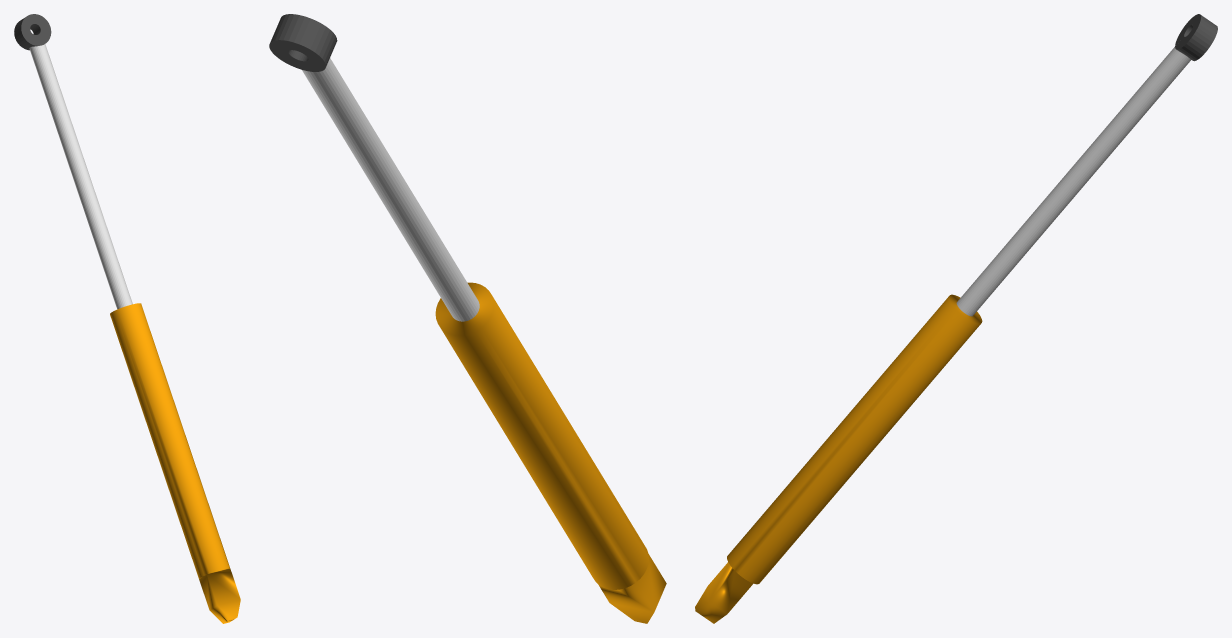
File: pistao_hidraulico.gltf
3 renders of one model, left to right at view 1: azimuth 30°, elevation 25°; view 2: azimuth 150°, elevation 25°; view 3: azimuth 270°, elevation 25°, orthographic. The views are drawn at different scales.
Parts seen in each view (by area): view 1: Cylinder.014, Cylinder.016; view 2: Cylinder.014, Cylinder.016; view 3: Cylinder.014, Cylinder.016.
Part boxes in pixels (<box>): Cylinder.014: <box>110,303,240,623</box>; Cylinder.016: <box>14,14,132,309</box>; Cylinder.014: <box>435,282,666,623</box>; Cylinder.016: <box>269,14,479,321</box>; Cylinder.014: <box>695,294,982,623</box>; Cylinder.016: <box>956,14,1217,316</box>.
Bounding box in the file's own units: 0.1182 × 1.56 × 1.23.
